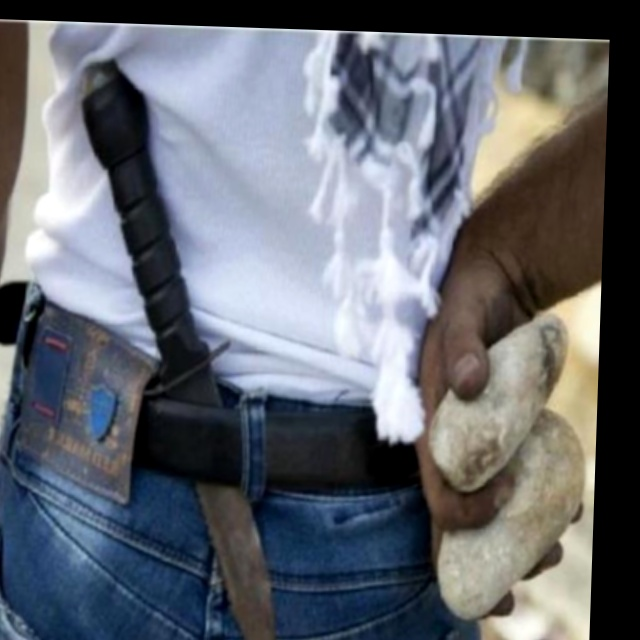Sharp-Object: (59, 63, 297, 640)
